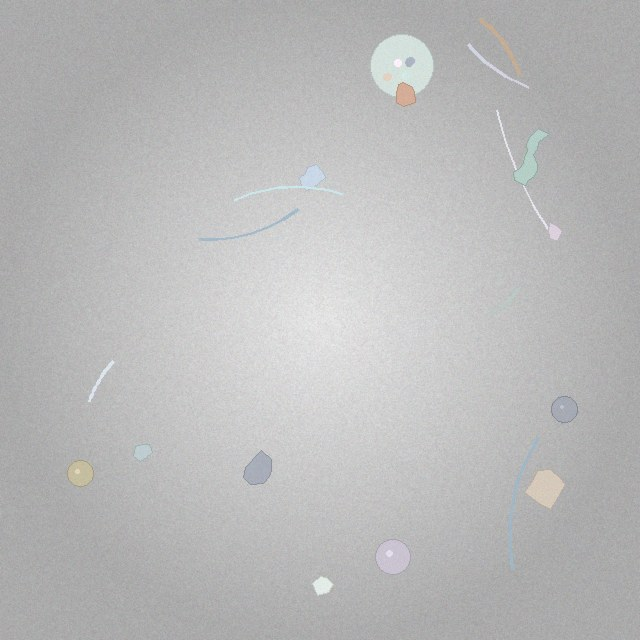fiber: (494, 108, 553, 236), (506, 434, 542, 573), (196, 206, 302, 243), (464, 41, 532, 91), (475, 14, 523, 79), (230, 183, 347, 204), (86, 358, 117, 405), (481, 285, 522, 319)
film: (513, 128, 550, 186)
foam: (370, 35, 433, 98)
fragment: (525, 469, 566, 509), (244, 451, 272, 484), (300, 165, 326, 190), (397, 83, 415, 106), (312, 577, 334, 595), (134, 444, 153, 462), (548, 222, 562, 240)
pellet: (376, 540, 410, 574), (67, 461, 93, 487), (552, 397, 577, 422)
